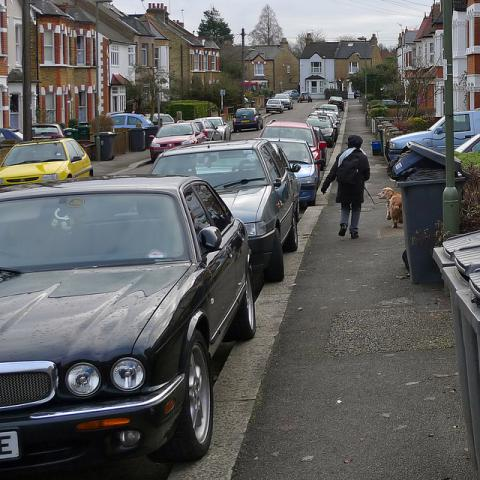car: (1, 173, 264, 475), (8, 89, 480, 160), (148, 139, 298, 283), (0, 139, 95, 186), (259, 122, 326, 178), (270, 138, 316, 206), (149, 122, 207, 163), (305, 114, 338, 148), (233, 108, 264, 132), (110, 113, 155, 128), (274, 92, 294, 110), (266, 98, 285, 115), (320, 103, 339, 117), (328, 97, 346, 104)
